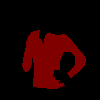polo: (22, 30, 86, 88)
